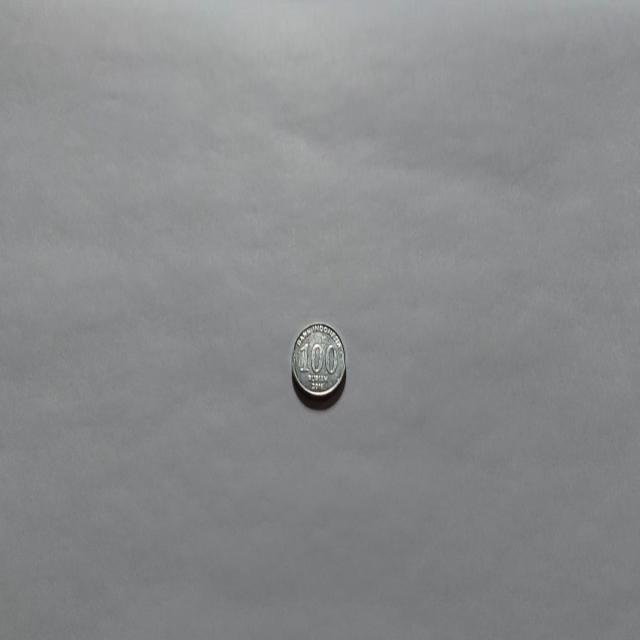seratus rupiah: (290, 320, 346, 401)
